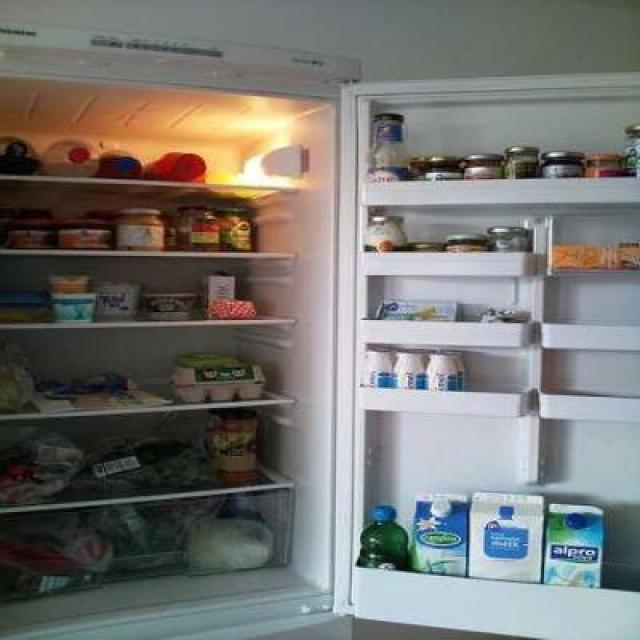refrigerator: (0, 72, 640, 616)
